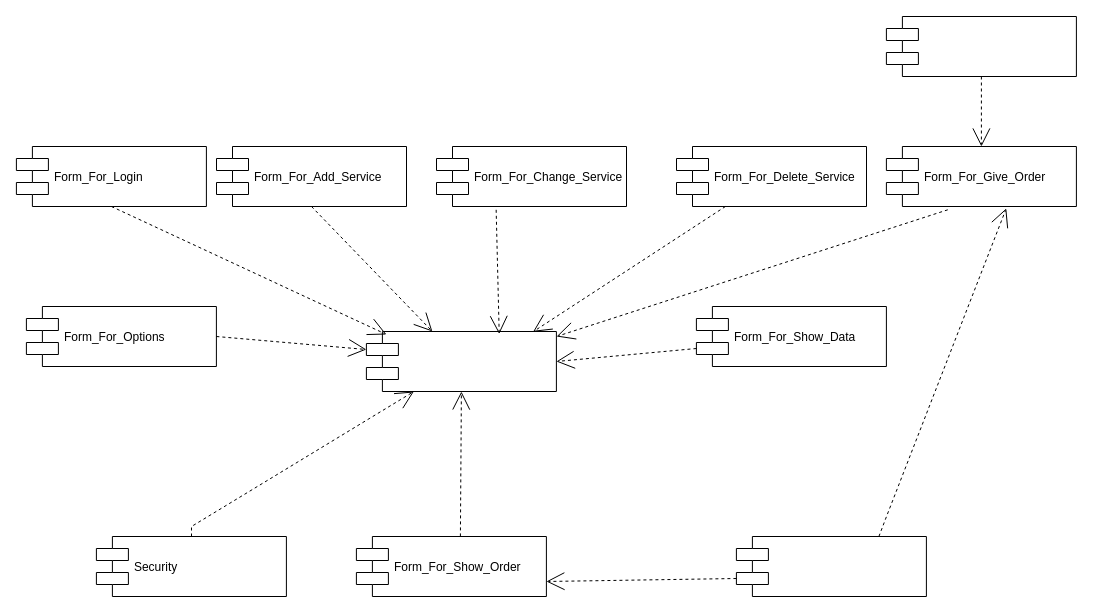
The diagram is 1093 pixels wide and 613 high, and some of its shapes have lost their labels. Each missing label, with the box of its shape:
MainWindow: (365, 330, 556, 392)
New_Spinbox: (885, 16, 1076, 76)
Order: (735, 536, 926, 596)
